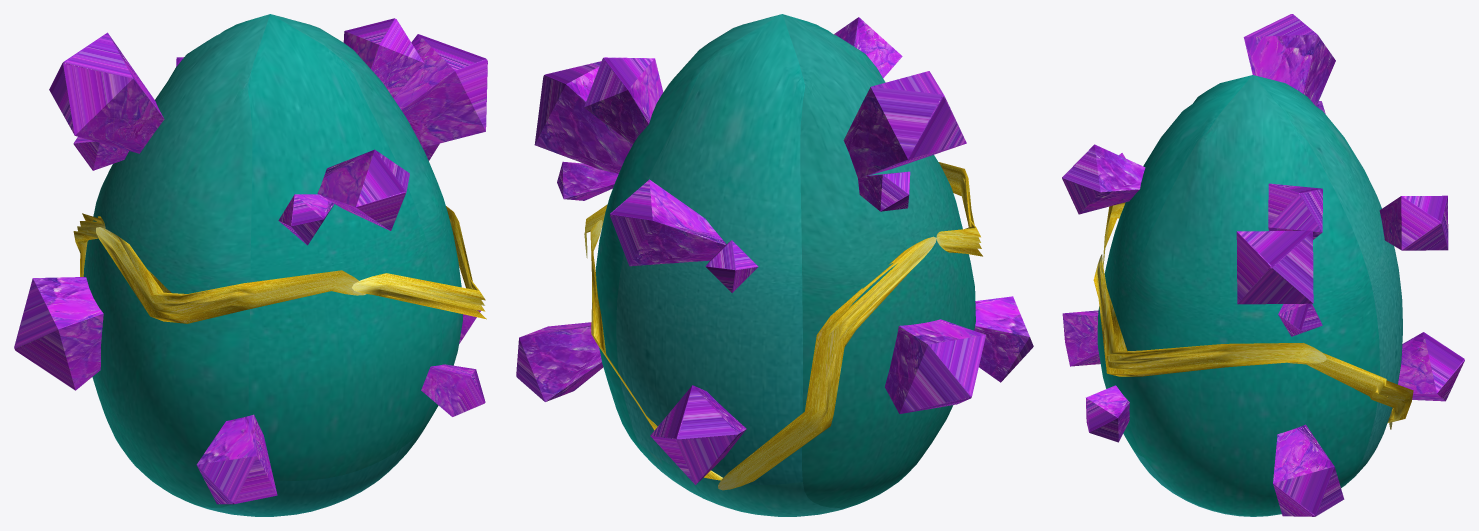
The model's file is CrystalEgg.fbx.
The picture shows the model from 3 angles, left to right: view 1: azimuth 30°, elevation 25°; view 2: azimuth 150°, elevation 25°; view 3: azimuth 270°, elevation 25°; orthographic projection. The views are drawn at different scales.
Visible parts, largest first — view 1: pCube1, pCube2, pCube8, pCube4, pDisc4, pCube10, pCube9, pDisc5, pCube3, pCube11, pCube12, pCube5 (+1 smaller); view 2: pCube1, pDisc2, pCube2, pCube8, pCube15, pCube4, pCube13, pCube6, pCube3, pCube10, pDisc4, pCube7 (+4 smaller); view 3: pCube1, pDisc5, pCube4, pCube2, pCube6, pCube9, pCube15, pCube13, pCube3, pDisc3, pCube11, pCube10 (+1 smaller).
Part boxes in pixels (box(x1,y1,x2,y2)): pCube1: box(83, 14, 462, 516); pCube2: box(49, 32, 164, 153); pCube8: box(14, 277, 103, 390); pCube4: box(393, 34, 487, 147); pDisc4: box(96, 227, 366, 323); pCube10: box(196, 414, 277, 504); pCube9: box(317, 149, 409, 230); pDisc5: box(352, 206, 486, 319); pCube3: box(343, 18, 423, 98); pCube11: box(421, 364, 485, 416); pCube12: box(278, 194, 334, 245); pCube5: box(73, 137, 128, 170); pCube1: box(596, 14, 975, 516); pDisc2: box(718, 236, 936, 490); pCube2: box(843, 71, 966, 178); pCube8: box(885, 319, 985, 413); pCube15: box(610, 179, 726, 266); pCube4: box(534, 61, 632, 173); pCube13: box(650, 385, 746, 484); pCube6: box(516, 322, 603, 401); pCube3: box(584, 57, 663, 144); pCube10: box(974, 296, 1033, 382); pDisc4: box(936, 162, 982, 256); pCube7: box(557, 161, 618, 200); pCube1: box(1097, 75, 1402, 516); pDisc5: box(1093, 254, 1326, 376); pCube4: box(1236, 230, 1313, 304); pCube2: box(1243, 14, 1335, 106); pCube6: box(1273, 424, 1344, 516); pCube9: box(1062, 144, 1145, 214); pCube15: box(1379, 195, 1448, 250); pCube13: box(1398, 332, 1464, 401); pCube3: box(1268, 183, 1322, 239); pDisc3: box(1288, 352, 1413, 423); pCube11: box(1086, 385, 1129, 442); pCube10: box(1062, 310, 1100, 366).
Bounding box in the file's own units: 1.17 × 1.2 × 1.04.
Materials: 3 (3 with a texture image).
